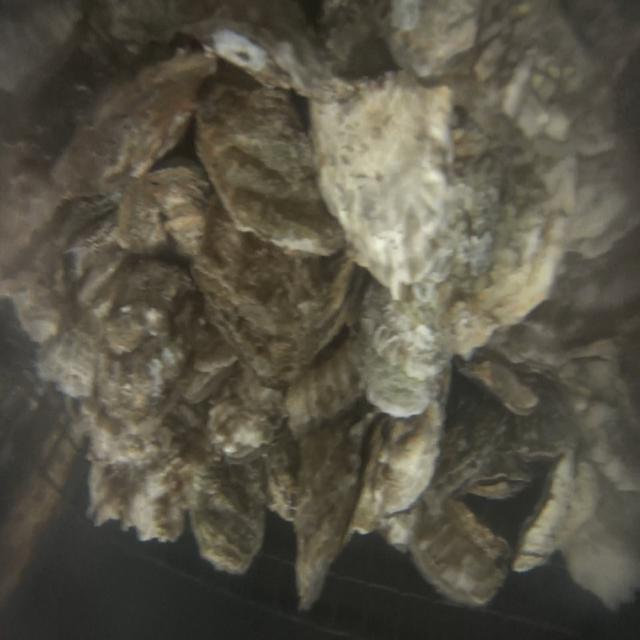Oyster-Closed: (0, 198, 238, 467), (411, 82, 564, 356), (310, 76, 452, 300), (192, 198, 354, 387), (196, 84, 344, 256), (52, 49, 216, 196), (350, 402, 442, 550), (425, 373, 520, 507), (295, 418, 361, 609), (361, 284, 450, 418), (410, 500, 510, 607), (190, 464, 265, 573), (286, 340, 362, 436), (514, 373, 578, 462), (460, 360, 539, 416), (469, 473, 530, 500)
